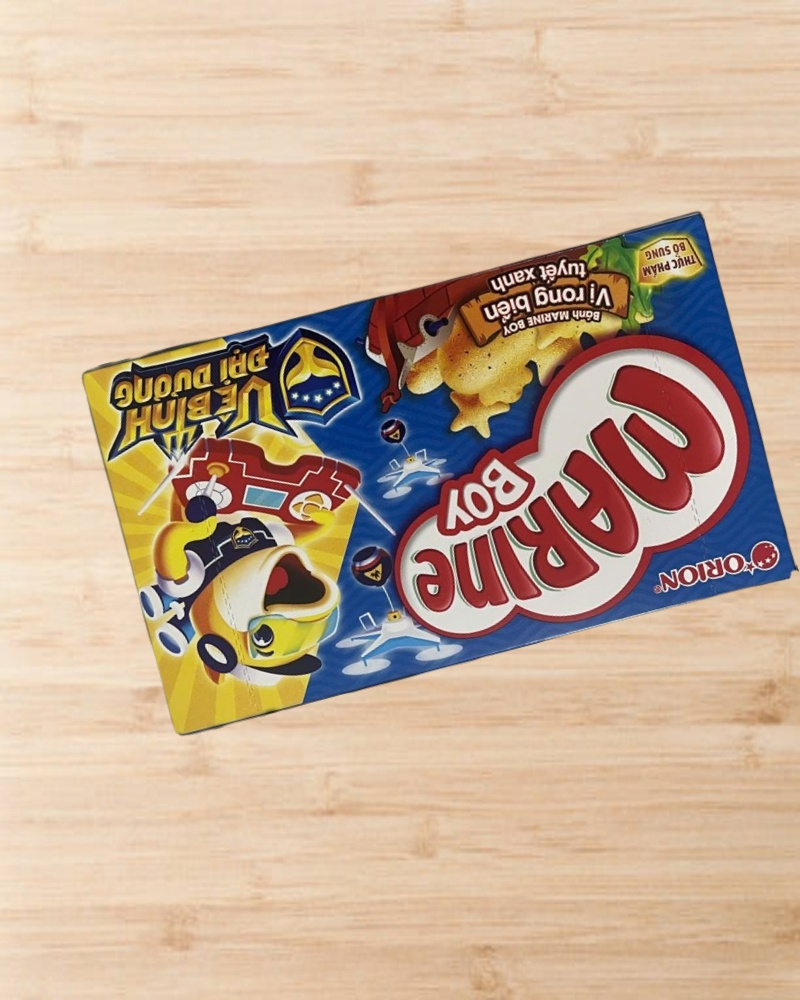Marine: (78, 206, 800, 742)
